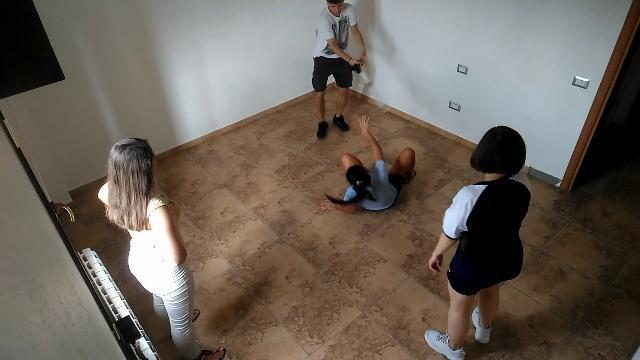non-violence: (89, 138, 228, 360), (419, 125, 533, 360), (313, 113, 422, 223)
violence: (310, 1, 368, 146)
weapon: (350, 60, 363, 73)
